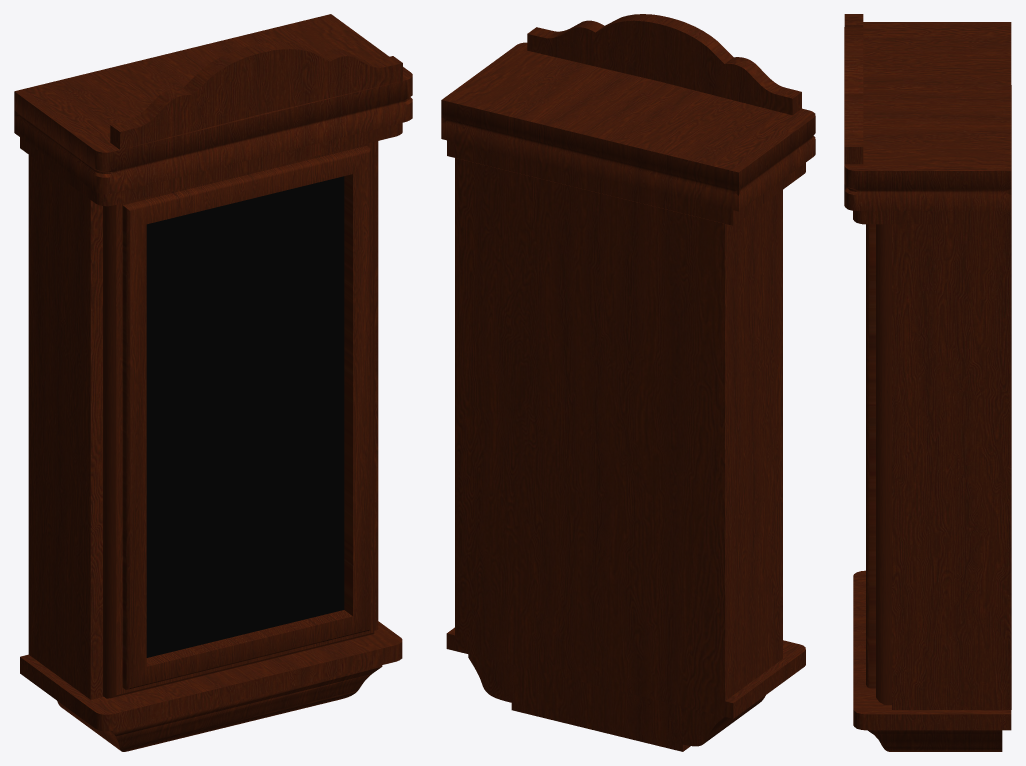
Rendered from old clock.fbx.
The picture shows the model from 3 angles, left to right: view 1: azimuth 30°, elevation 25°; view 2: azimuth 150°, elevation 25°; view 3: azimuth 270°, elevation 25°; orthographic projection. The views are drawn at different scales.
Parts seen in each view (by area): view 1: body, glas, door; view 2: body; view 3: body, door.
Part boxes in pixels (x1=…): body: x1=14, y1=14, x2=412, y2=751; glas: x1=146, y1=176, x2=344, y2=657; door: x1=103, y1=142, x2=374, y2=698; body: x1=441, y1=14, x2=815, y2=751; body: x1=844, y1=14, x2=1011, y2=751; door: x1=866, y1=224, x2=891, y2=704.
Bounding box in the file's own units: 120 × 253 × 56.87.
4 materials, 2 textured.
